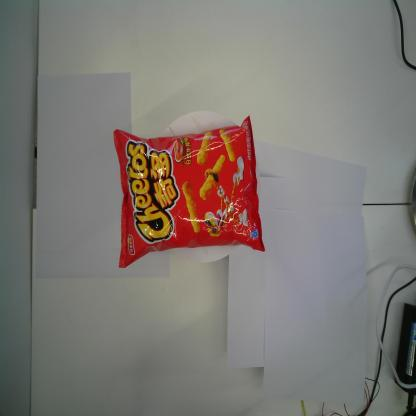Puffed Food: (111, 116, 266, 269)
